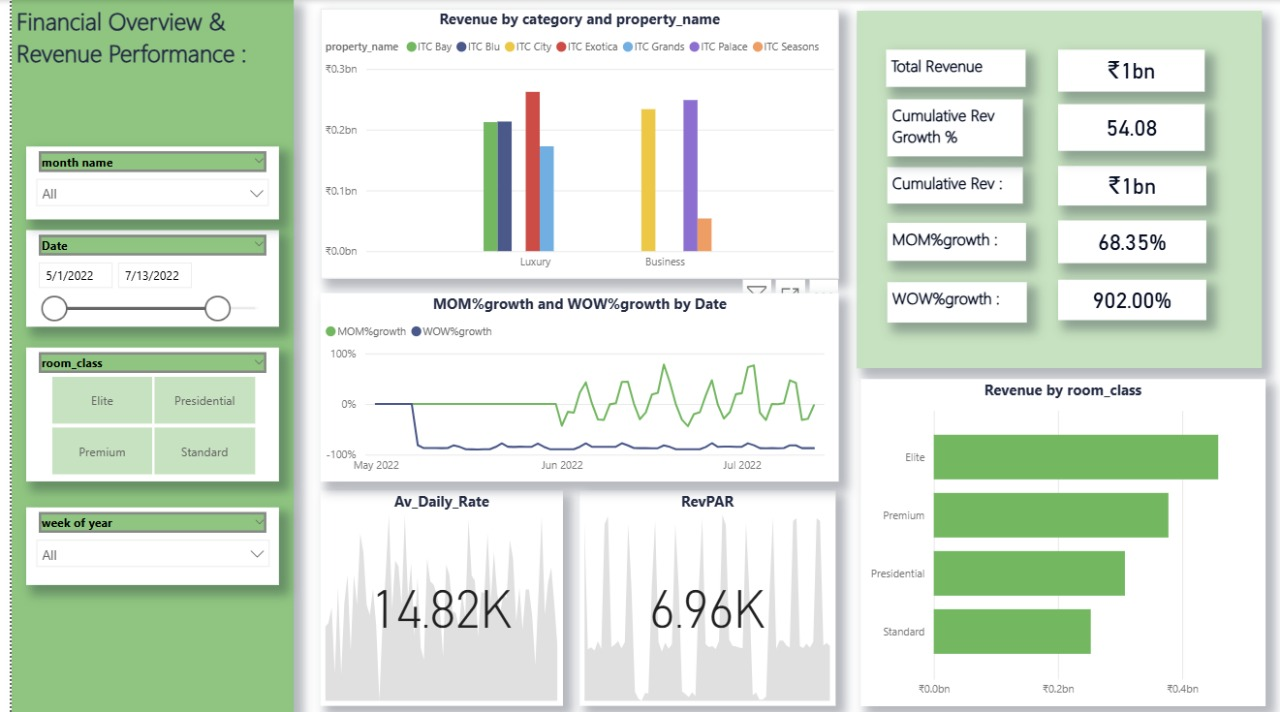

Layout of this report page (visuals, bound fields, positions):
{"tool":"powerbi","page":{"name":"Revenue","canvas":[1280,720],"ordinal":0},"visuals":[{"type":"textbox","box":[853.5,11.4,408.4,360.7],"z":0,"group":"g1"},{"type":"group","id":"g1","title":"Group 1","box":[853.5,11.4,408.4,360.7],"z":0},{"type":"textbox","box":[0,0,284.9,720.2],"z":1000},{"type":"clusteredColumnChart","fields":{"Category":["hotels.category"],"Y":["Table.revenue"],"Series":["hotels.property_name"]},"box":[311.8,8.6,523.4,272.7],"z":2000},{"type":"card","fields":{"Values":["Table.cumulative_sales"]},"box":[1056.9,167.5,149.3,39.8],"z":3000,"group":"g1"},{"type":"barChart","fields":{"Category":["rooms.room_class"],"Y":["Table.revenue"]},"box":[857.2,382.7,408.4,330.2],"z":3000},{"type":"slicer","fields":{"Values":["calendar.Date"]},"box":[15,232.5,255,97.5],"z":4000},{"type":"slicer","fields":{"Values":["calendar.month name"]},"box":[15,147.5,255,73.8],"z":5000},{"type":"card","fields":{"Values":["Table.MOM%growth"]},"box":[1056.9,223.5,149.3,43.5],"z":6000,"group":"g1"},{"type":"slicer","fields":{"Values":["calendar.week of year"]},"box":[14.7,512.4,255.6,78.3],"z":6000},{"type":"kpi","title":"Av_Daily_Rate","fields":{"Indicator":["Measures Table.Av_Daily_Rate"],"TrendLine":["calendar.Date"]},"box":[311.8,495.2,244.6,217.7],"z":7000},{"type":"card","fields":{"Values":["Table.WOW%growth"]},"box":[1056.9,283.2,149.3,41.1],"z":8000,"group":"g1"},{"type":"kpi","title":"RevPAR","fields":{"Indicator":["Measures Table.RevPAR"],"TrendLine":["calendar.Date"]},"box":[573.5,495.2,258,217.7],"z":8000},{"type":"lineChart","fields":{"Y":["Table.MOM%growth","Table.WOW%growth"],"Category":["calendar.Date"]},"box":[311.8,295.9,523.4,190.8],"z":9000},{"type":"card","fields":{"Values":["Table.revenue"]},"box":[1056.9,50.5,148.1,42.3],"z":10000,"group":"g1"},{"type":"card","fields":{"Values":["Measures Table.Cumulative_Revenue_Growth"]},"box":[1056.3,105.8,148.1,47.3],"z":10000},{"type":"slicer","fields":{"Values":["rooms.room_class"]},"box":[15,351.2,255,135],"z":11000},{"type":"textbox","box":[883.4,49.8,140.6,37.3],"z":12000},{"type":"textbox","box":[883.5,285.3,141.1,41.1],"z":12000,"group":"g1"},{"type":"textbox","box":[884.1,100.3,137,57.5],"z":13000},{"type":"textbox","box":[884.1,169.1,137,36.7],"z":14000,"group":"g1"},{"type":"textbox","box":[883.5,225.1,139.9,38.1],"z":16000,"group":"g1"}]}

Visuals, with their boxes in screenshot pixels (x1, y1, x2, y2), scaled from the page's 1280x720 canvas onto the 1280x712 screenshot:
textbox: 854, 11, 1262, 368
"Group 1" group: 854, 11, 1262, 368
textbox: 0, 0, 285, 711
clusteredColumnChart - hotels.category x Table.revenue: 312, 9, 835, 278
card - Table.cumulative_sales: 1057, 166, 1206, 205
barChart - rooms.room_class x Table.revenue: 857, 378, 1266, 705
slicer - calendar.Date: 15, 230, 270, 326
slicer - calendar.month name: 15, 146, 270, 219
card - Table.MOM%growth: 1057, 221, 1206, 264
slicer - calendar.week of year: 15, 507, 270, 584
"Av_Daily_Rate" kpi: 312, 490, 556, 705
card - Table.WOW%growth: 1057, 280, 1206, 321
"RevPAR" kpi: 574, 490, 832, 705
lineChart - Table.MOM%growth x Table.WOW%growth: 312, 293, 835, 481
card - Table.revenue: 1057, 50, 1205, 92
card - Measures Table.Cumulative_Revenue_Growth: 1056, 105, 1204, 151
slicer - rooms.room_class: 15, 347, 270, 481
textbox: 883, 49, 1024, 86
textbox: 884, 282, 1025, 323
textbox: 884, 99, 1021, 156
textbox: 884, 167, 1021, 204
textbox: 884, 223, 1023, 260
